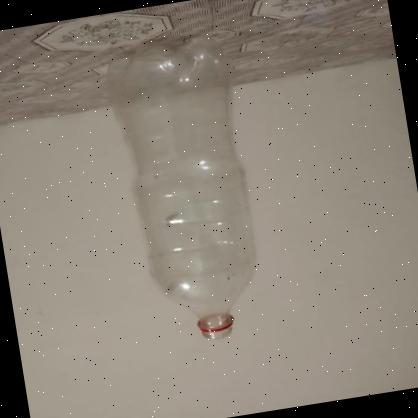bottle: (103, 25, 280, 352)
